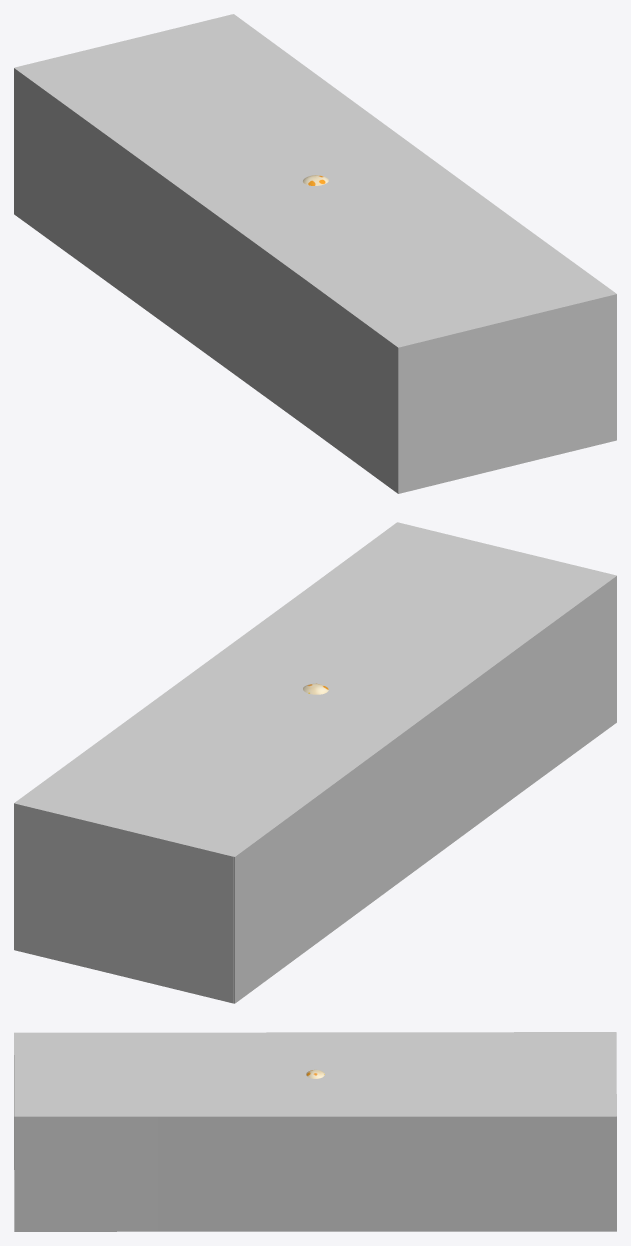
The model's file is Egg_Asset_v04.glb.
3 views of the same model, one above another, from view 1: azimuth 30°, elevation 25°; view 2: azimuth 150°, elevation 25°; view 3: azimuth 270°, elevation 25° (orthographic). The views are drawn at different scales.
Parts seen in each view (by area): view 1: Cube.006; view 2: Cube.006; view 3: Cube.006.
Boxes of the visible parts, box(x1,y1,x2,y2) form: Cube.006: box(14, 14, 616, 493); Cube.006: box(14, 522, 616, 1003); Cube.006: box(14, 1032, 616, 1231).
Size of the model in its own units: 3.01 by 1.95 by 9.04.
1 material, 1 textured.
